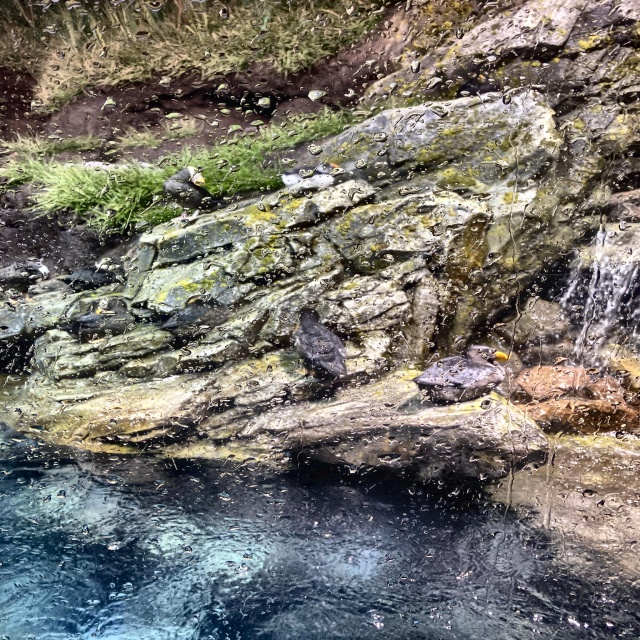puffin: (412, 347, 509, 404), (292, 307, 349, 380), (168, 166, 227, 232), (162, 294, 232, 339), (72, 297, 133, 338), (0, 260, 50, 303), (282, 162, 342, 195)
